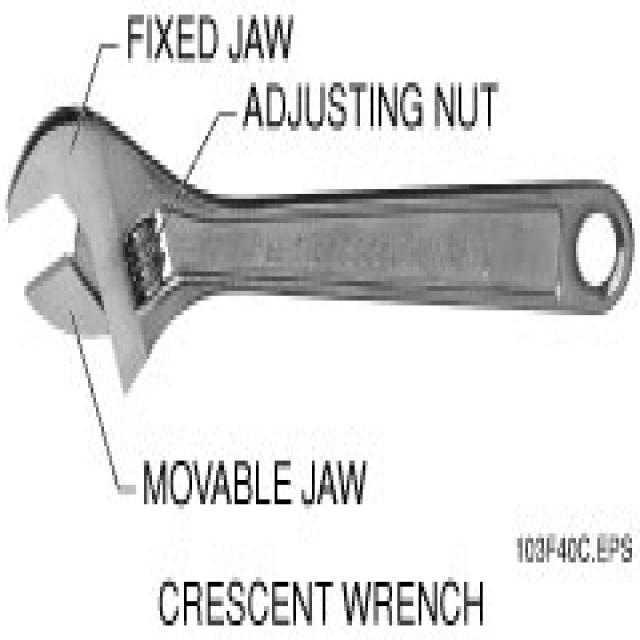wrench: (0, 82, 640, 393)
